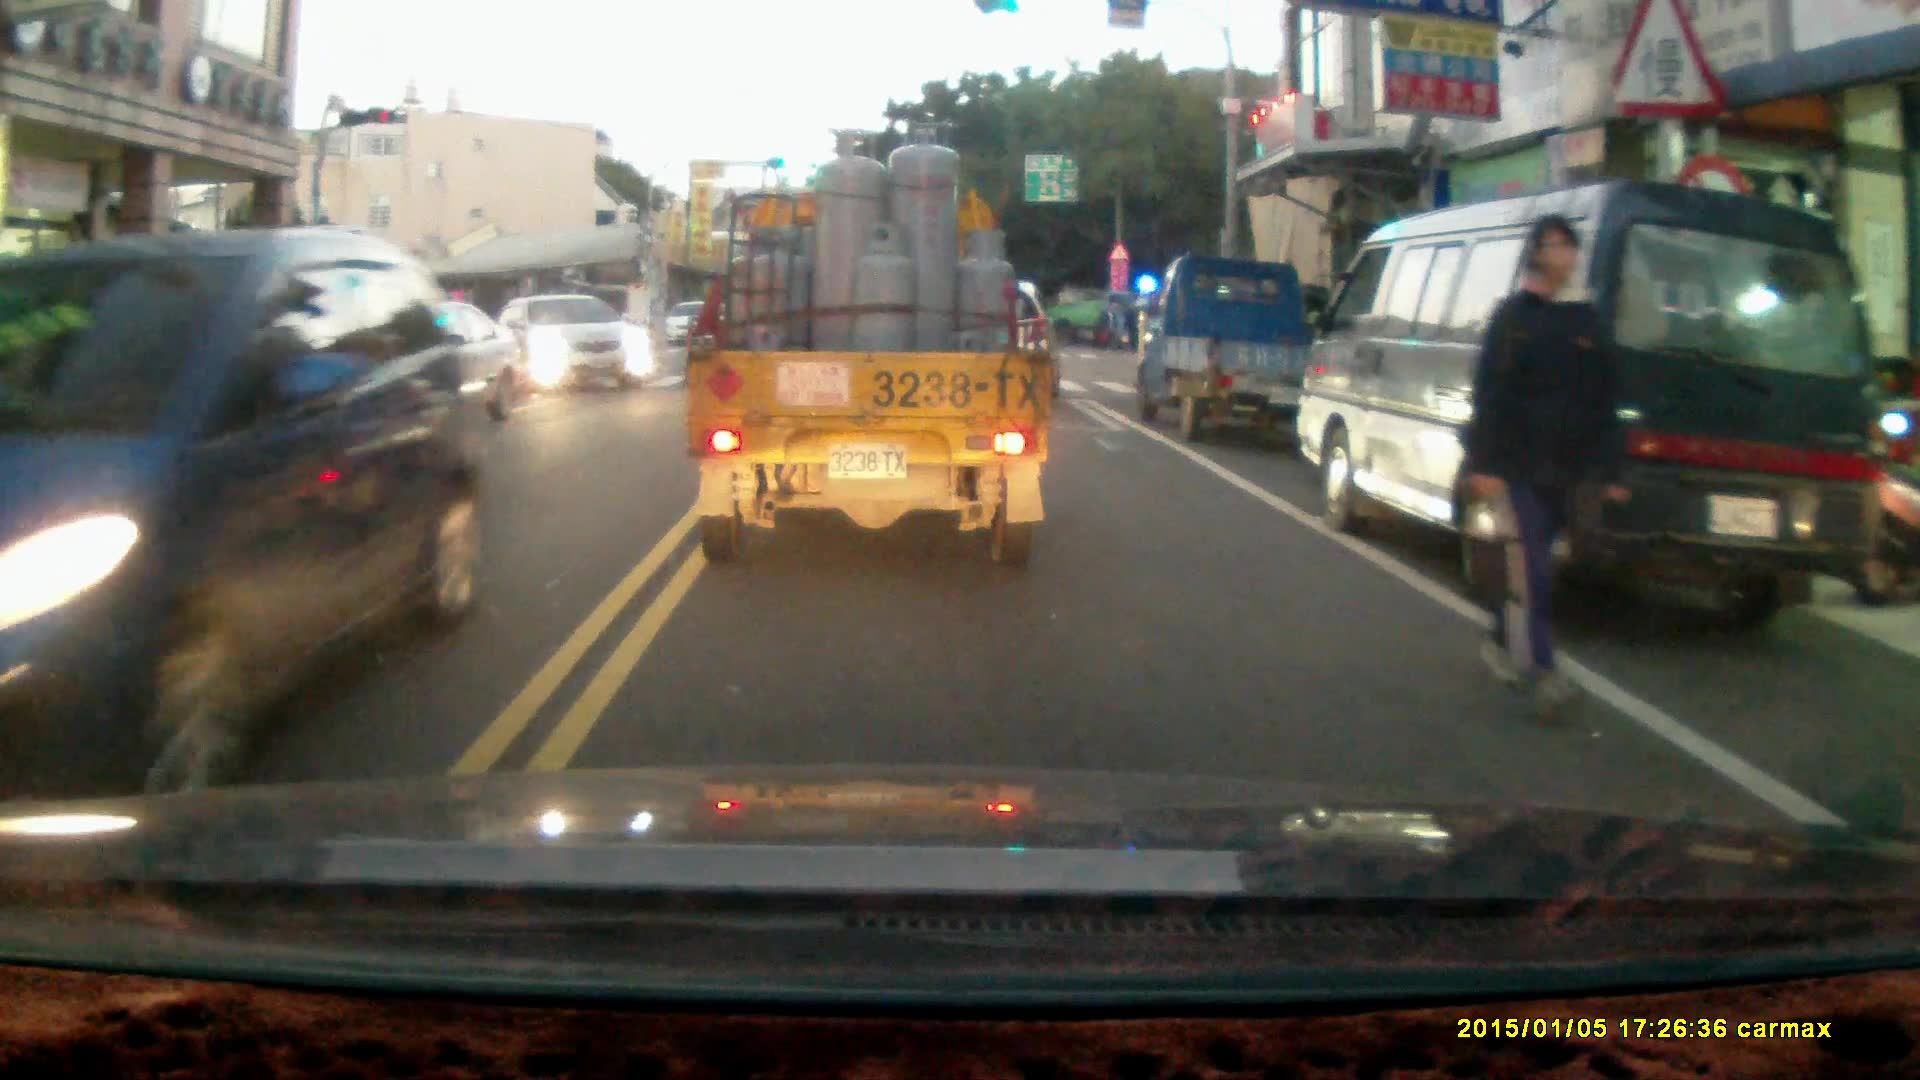pedestrian: (1465, 211, 1618, 722)
vehicle: (1, 226, 507, 813), (1297, 177, 1877, 633), (683, 124, 1053, 568), (244, 299, 515, 444), (1140, 252, 1324, 440), (496, 295, 648, 397)
